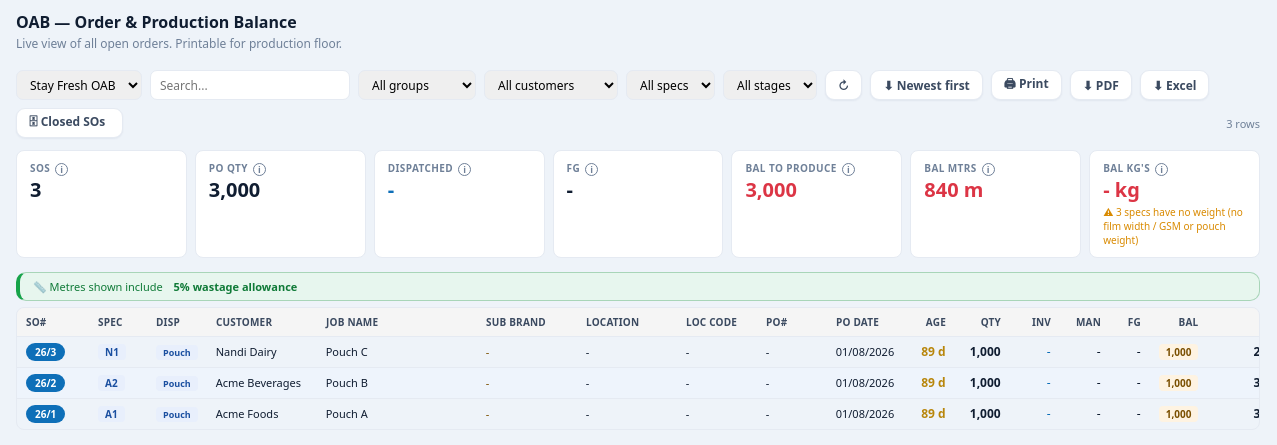
OAB board — filter by group, and narrow what follows › narrows the specs again once a customer is chosen
Expected: the text "Pouch A" is shown, [317,398,477,429]
Select "Acme Foods" in the dropdown named "Filter by customer" at [551, 85], box [484,70,618,100]
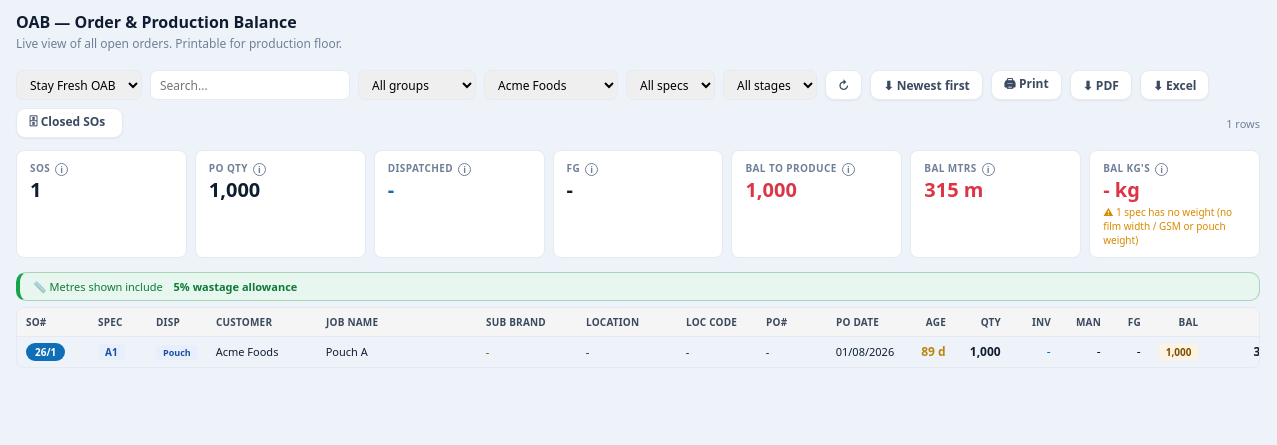
Expected: the text "Pouch A" is shown, [317,336,477,367]
Now the text "Pouch B" is gone
